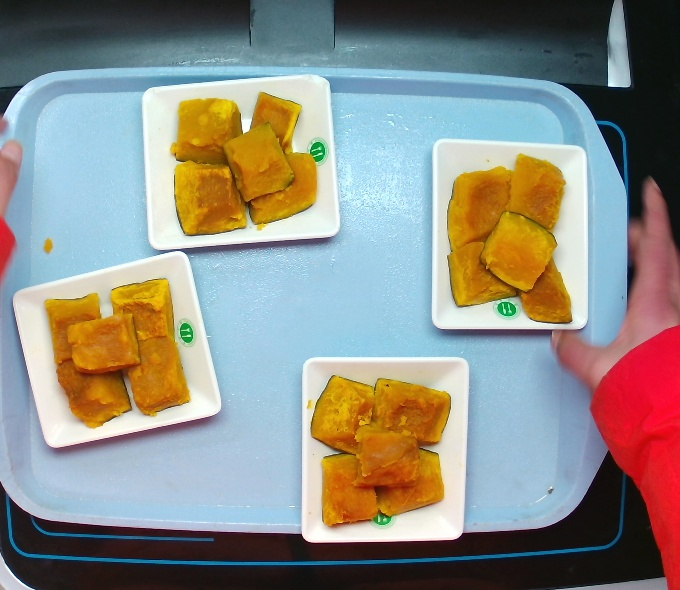wcq-RiBenNanGua: (165, 83, 323, 250), (440, 154, 578, 319), (307, 365, 450, 522), (48, 280, 190, 425)
